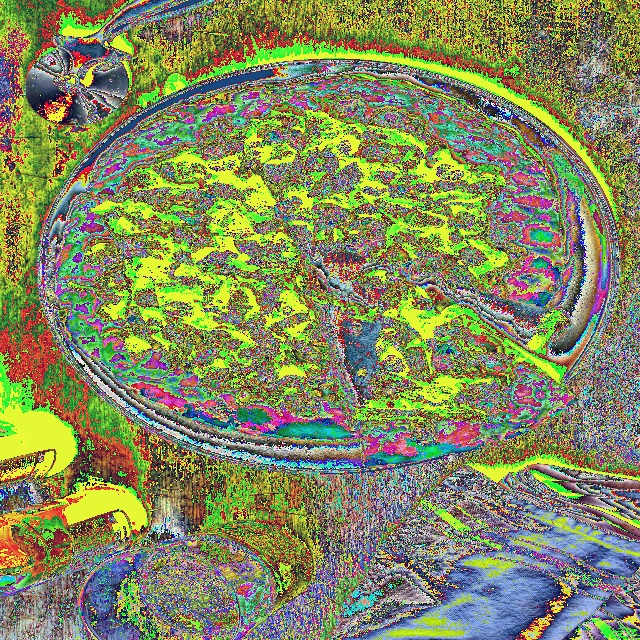background: (53, 75, 564, 440), (221, 192, 578, 464), (139, 116, 312, 637)
